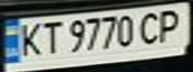0: (115, 11, 139, 47)
7: (81, 15, 103, 52), (100, 12, 121, 50)
9: (63, 16, 87, 54)
C: (136, 8, 166, 46)
K: (15, 19, 45, 57)
P: (151, 6, 190, 45)
T: (36, 18, 63, 56)
